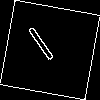I: (25, 25, 62, 70)
